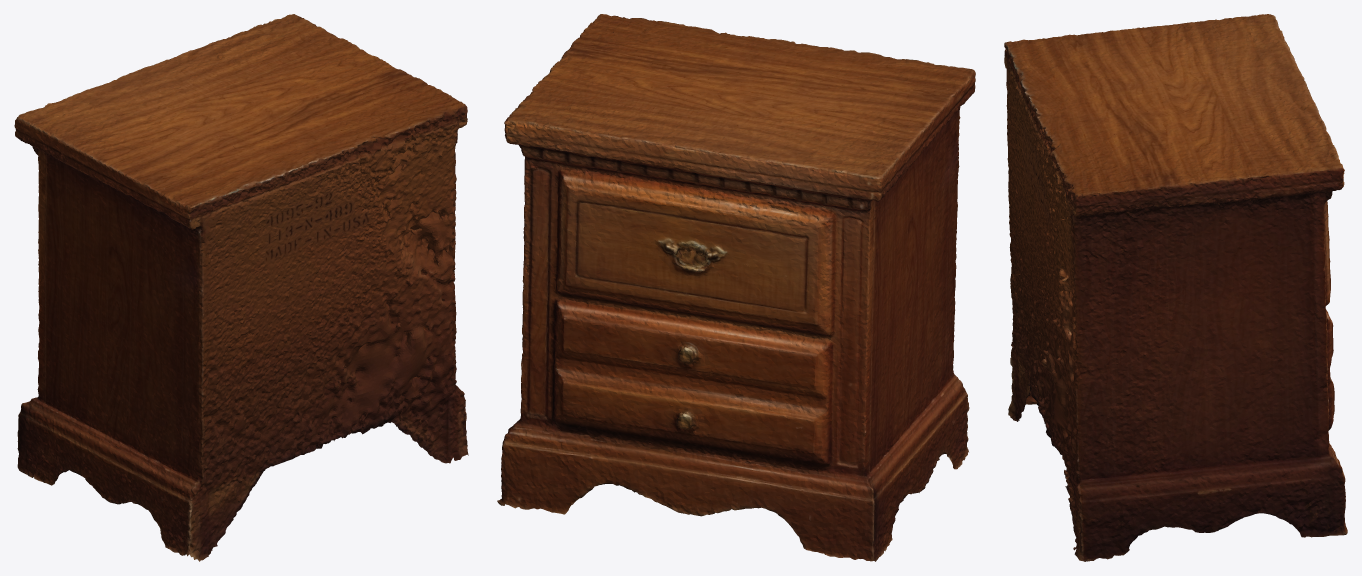
Rendered from bedside table.obj.
The picture shows the model from 3 angles, left to right: view 1: azimuth 30°, elevation 25°; view 2: azimuth 150°, elevation 25°; view 3: azimuth 270°, elevation 25°; orthographic projection. The views are drawn at different scales.
Parts seen in each view (by area): view 1: 1st; view 2: 1st; view 3: 1st.
Part boxes in pixels (bbox=[...]): 1st: bbox=[14, 14, 468, 561]; 1st: bbox=[497, 14, 975, 561]; 1st: bbox=[1004, 14, 1347, 561].
Bounding box in the file's own units: 4.13 × 4 × 3.3.
Materials: 2 (1 with a texture image).
